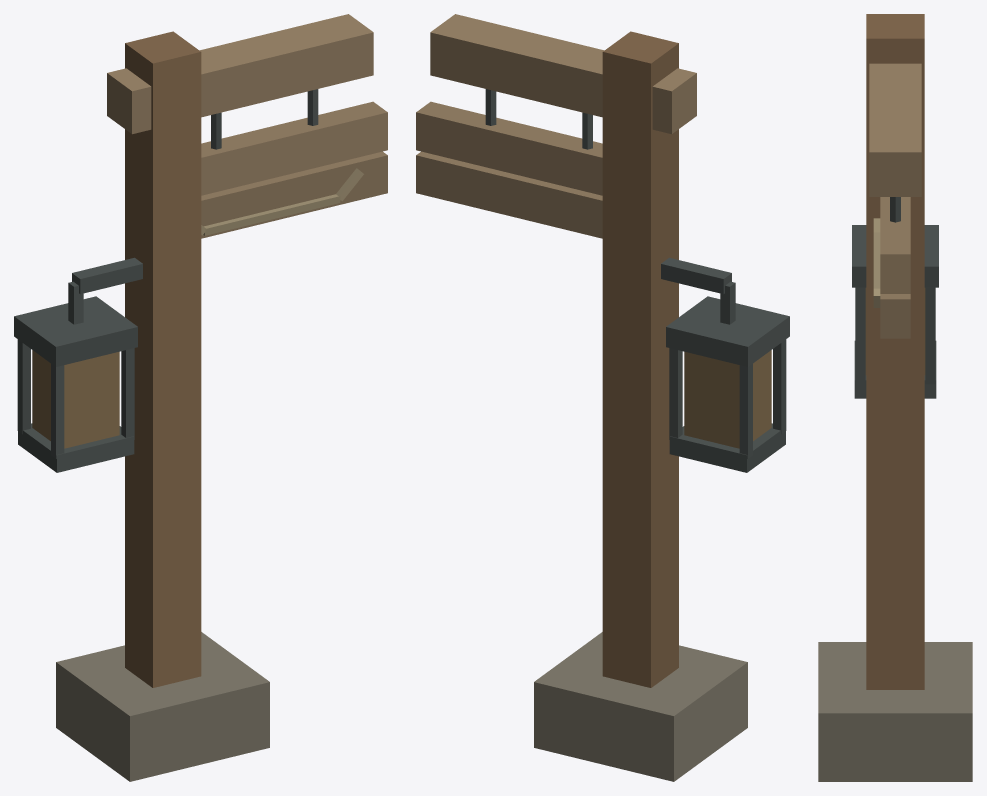
File: landing-sign.glb
3 views of the same model, side by side, from view 1: azimuth 30°, elevation 25°; view 2: azimuth 150°, elevation 25°; view 3: azimuth 270°, elevation 25° (orthographic). The views are drawn at different scales.
Parts seen in each view (by area): view 1: landing-sign; view 2: landing-sign; view 3: landing-sign.
Boxes of the visible parts, box(x1,y1,x2,y2) form: landing-sign: box(14, 14, 387, 781); landing-sign: box(416, 14, 789, 781); landing-sign: box(818, 14, 972, 781).
Bounding box in the file's own units: 1.43 × 2.73 × 0.53.
